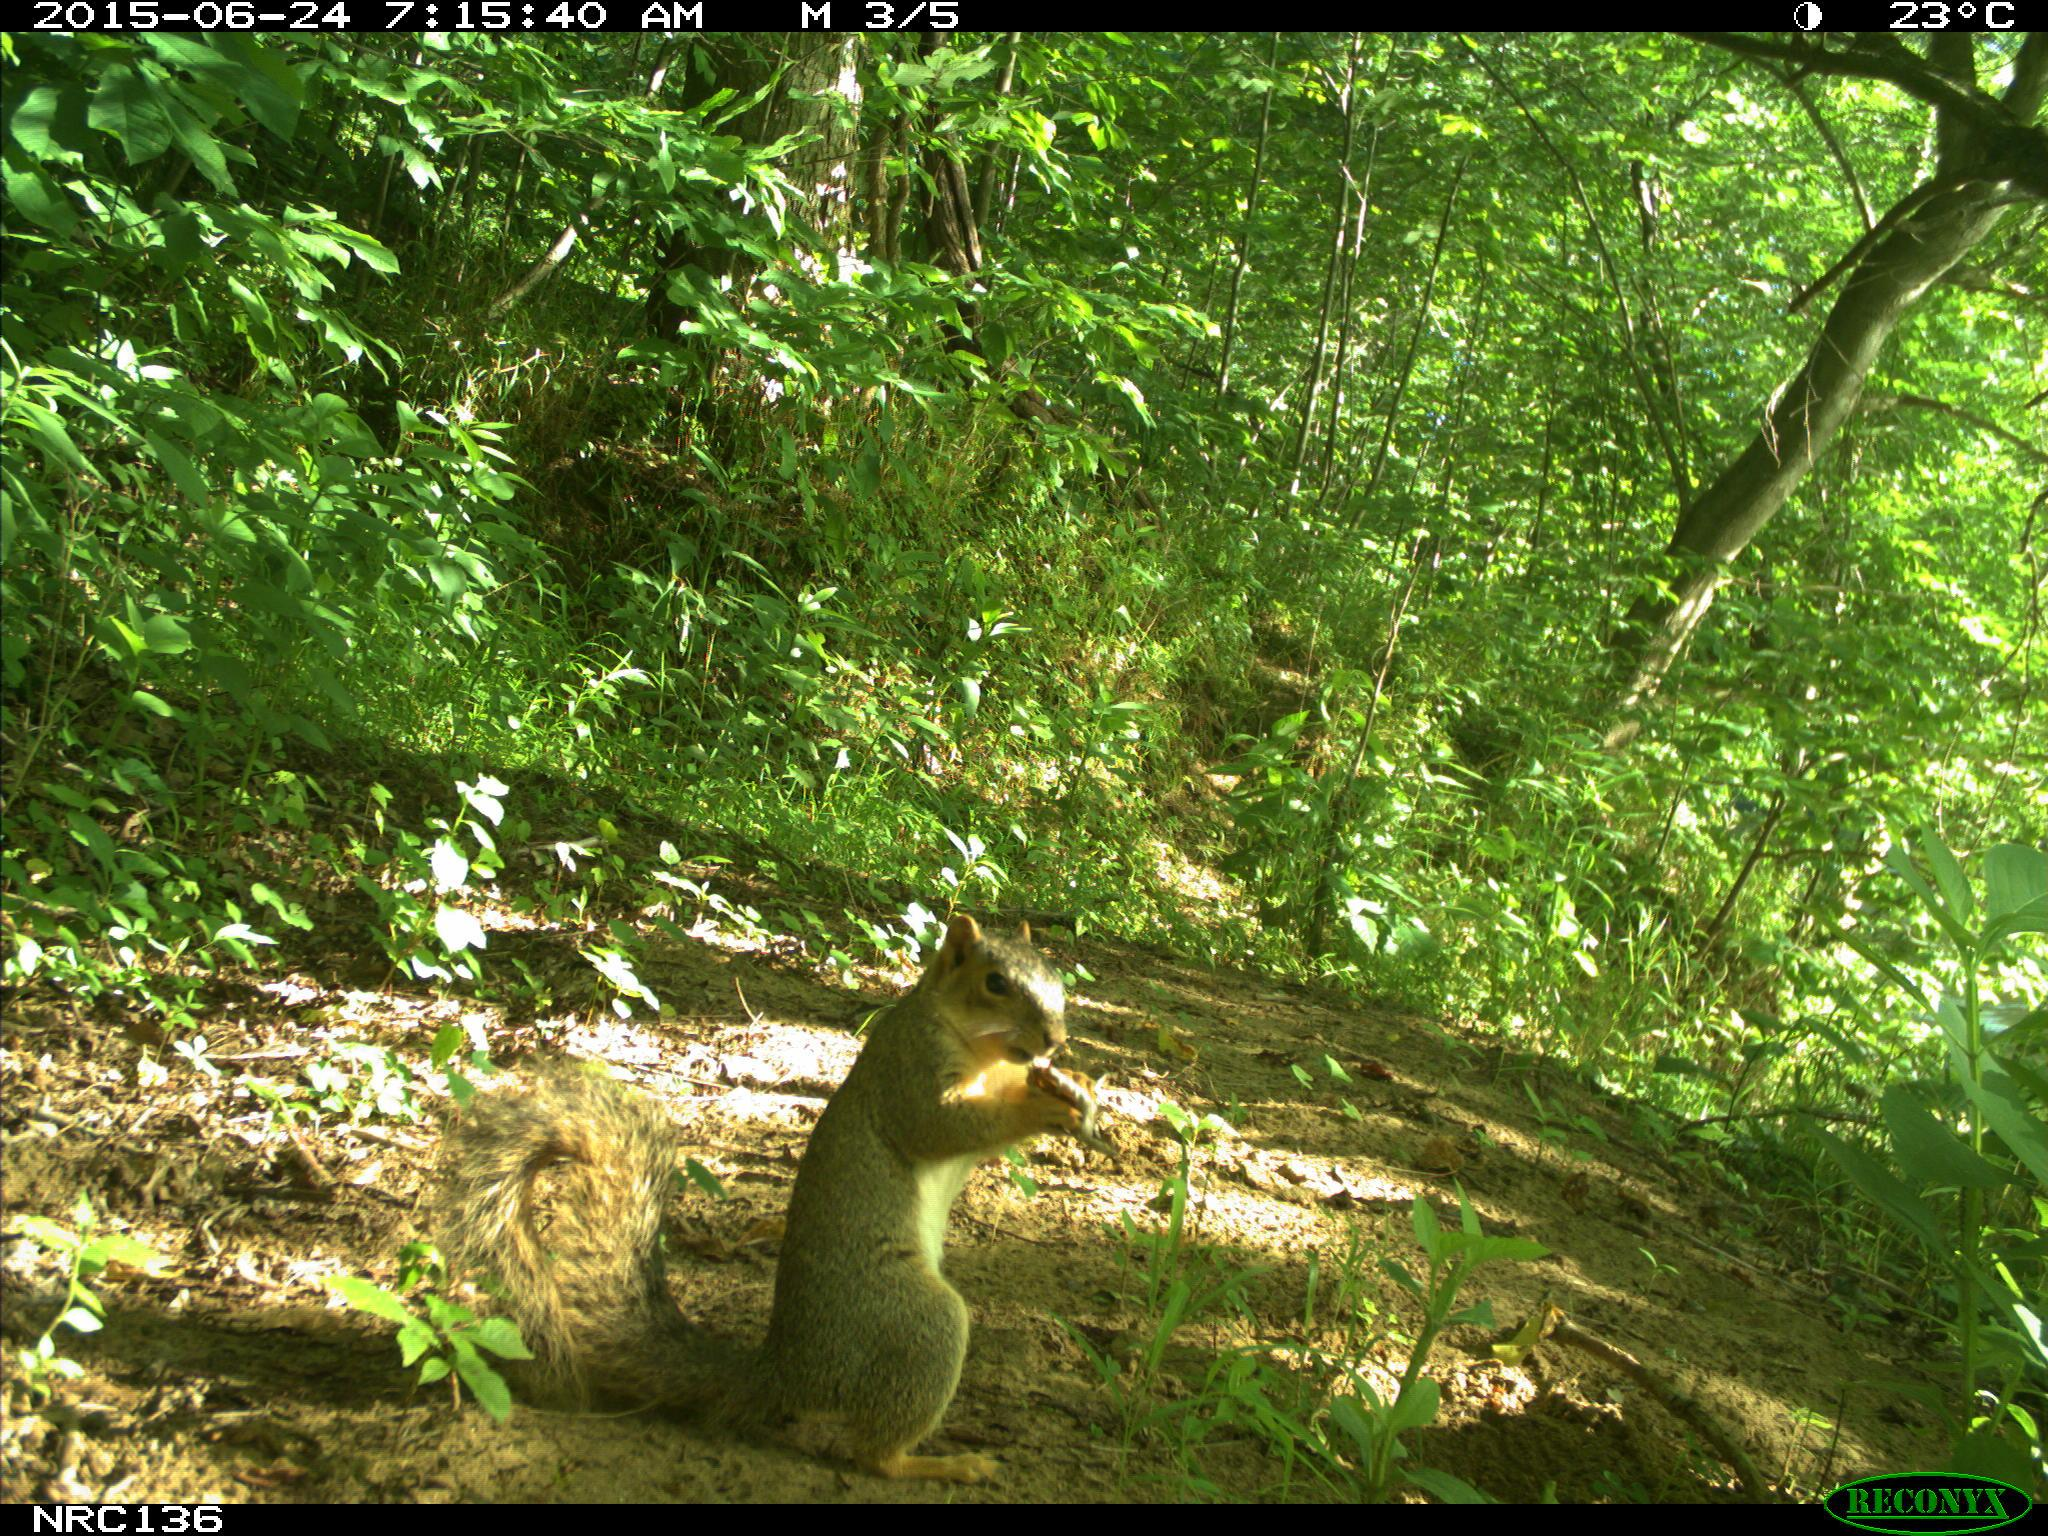Animal: (439, 912, 1097, 1476)
